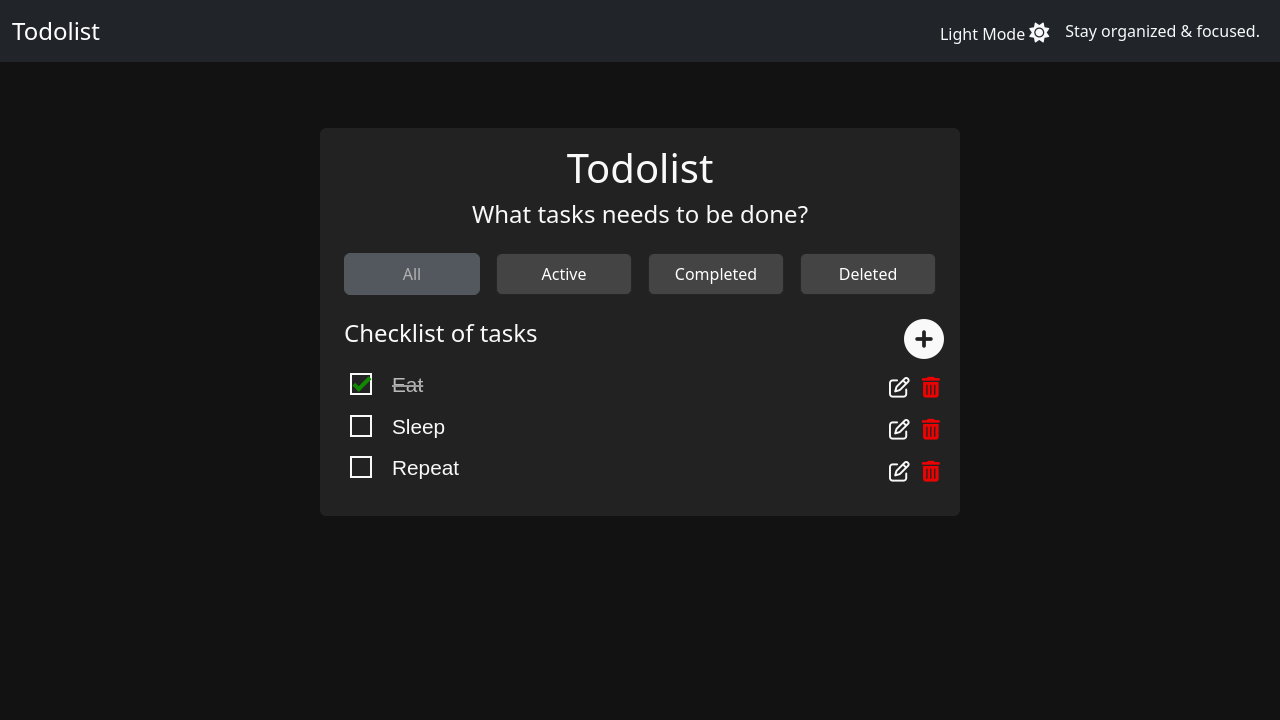
Test: todolist addTodo › can add new todo items
Click the icon with test id "addButton" at (924, 339), box [904, 319, 944, 359]
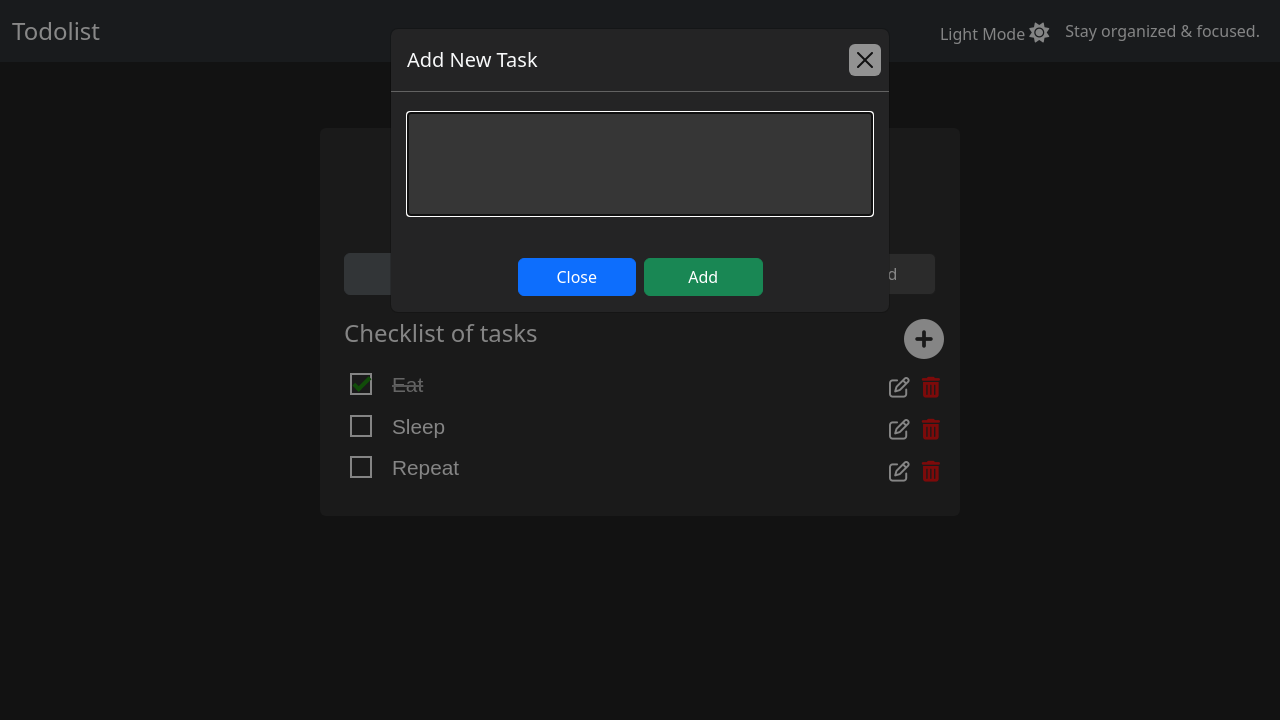
Type "Code" into the text box with test id "addTodoTextbox" at (640, 164), box [407, 112, 873, 216]
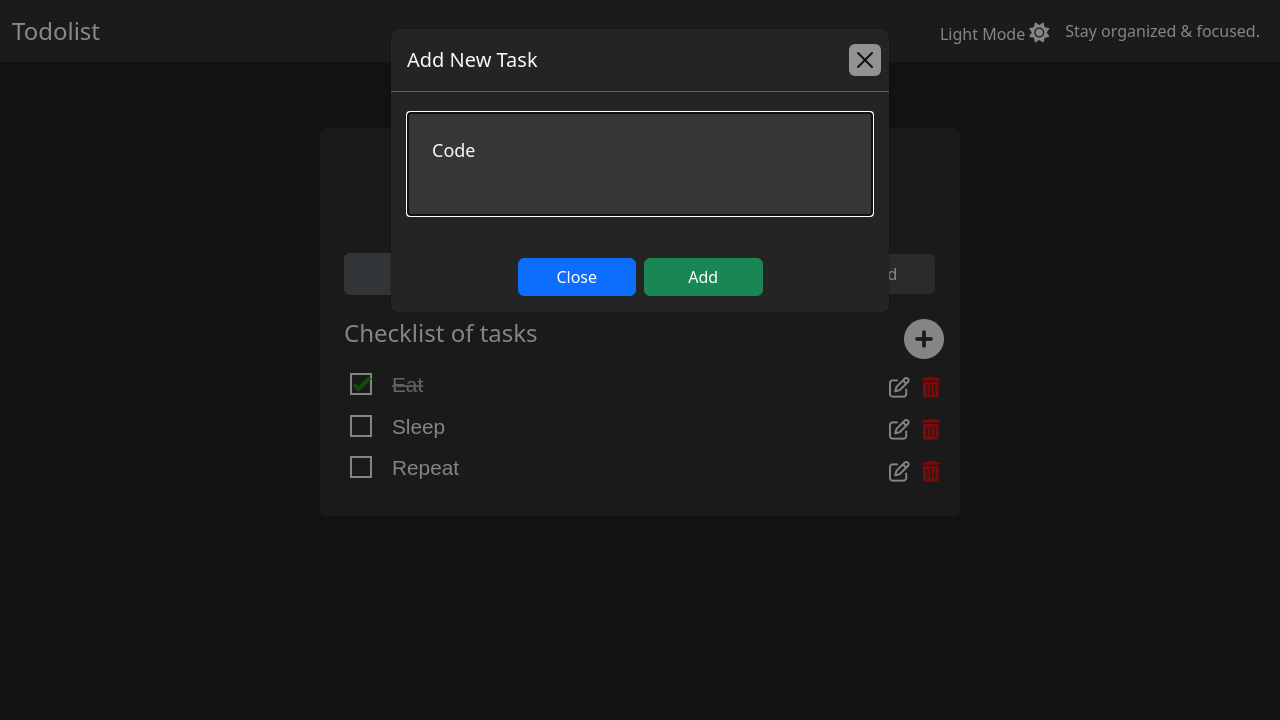
Click the button with test id "addTodoSave" at (704, 277), box [644, 258, 763, 296]
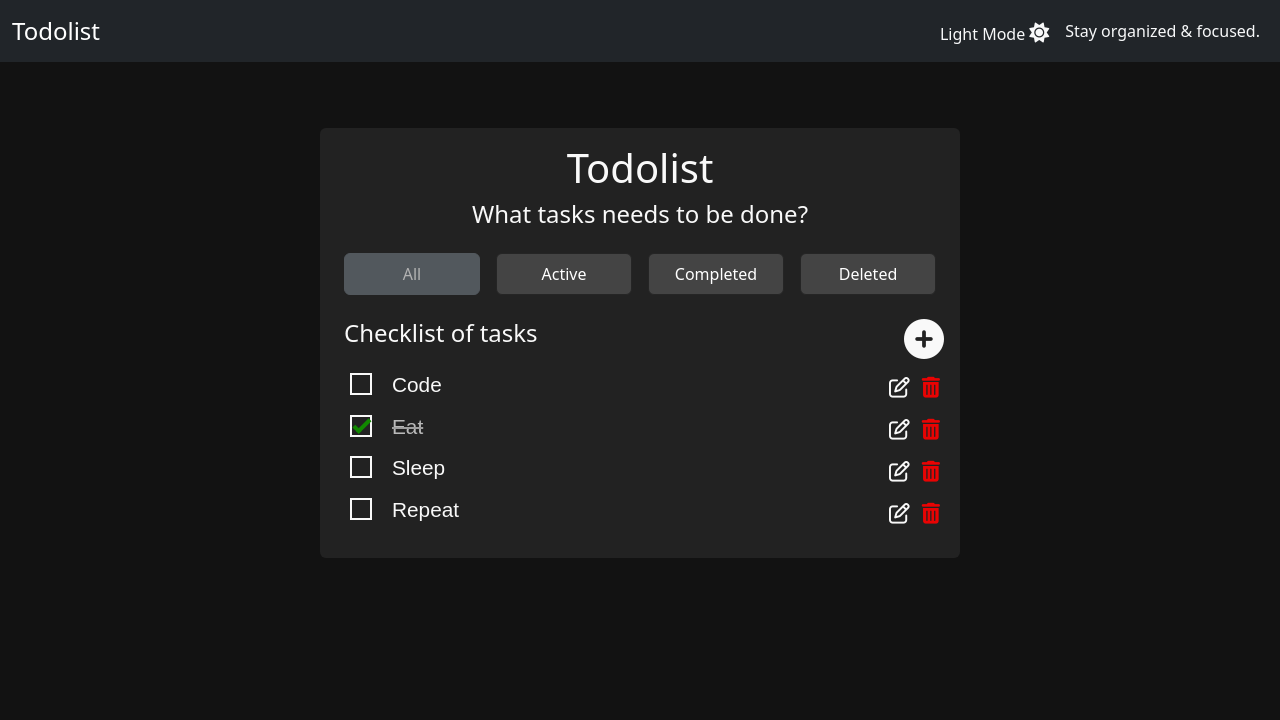
Expected: the number of checkboxes is 4, [392, 373, 442, 396]; [392, 415, 423, 438]; [392, 456, 445, 479]; [392, 498, 459, 521]
Expected: the checkbox labelled "Code" is shown, [392, 373, 442, 396]
